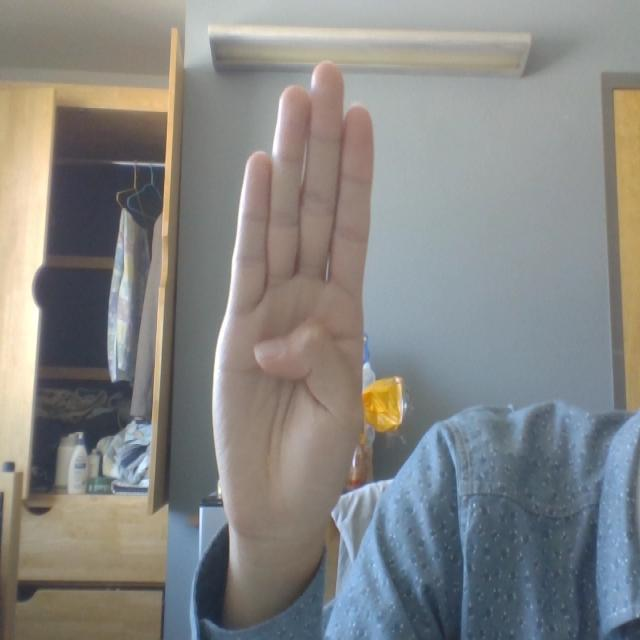B: (192, 36, 407, 576)
